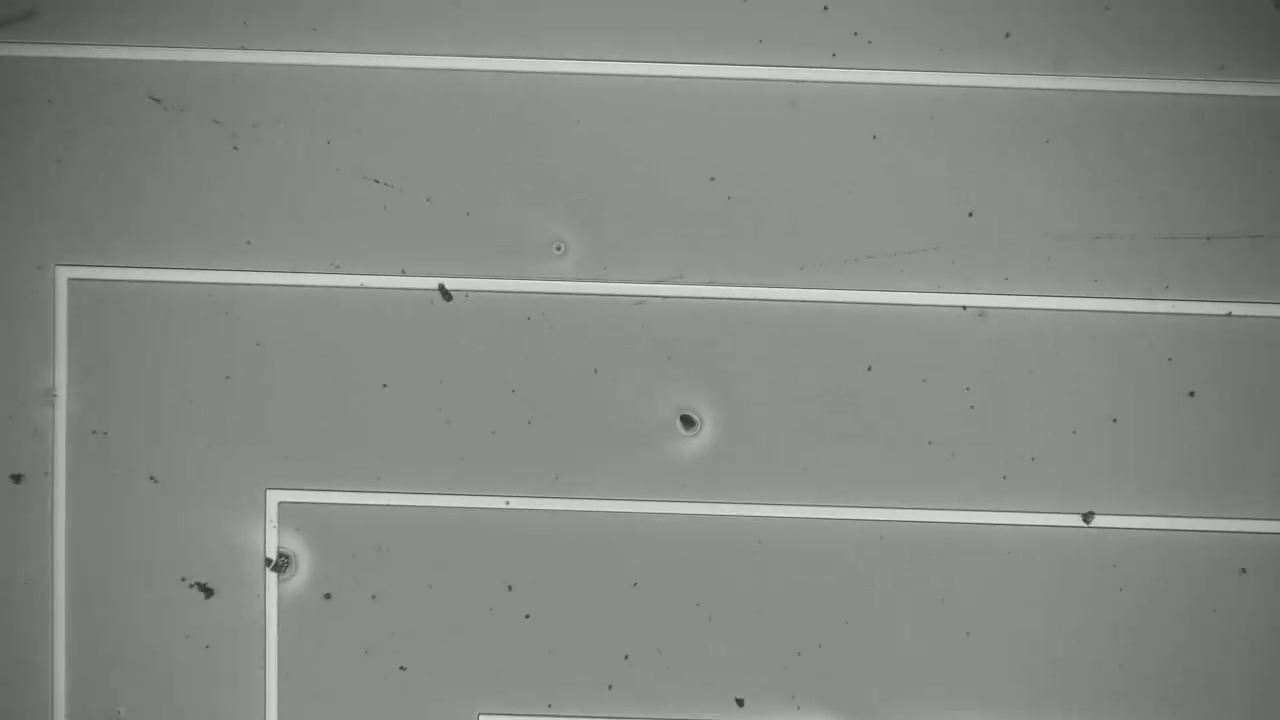stains_enbedded: (254, 545, 286, 578), (434, 267, 457, 311), (1077, 506, 1101, 538)
